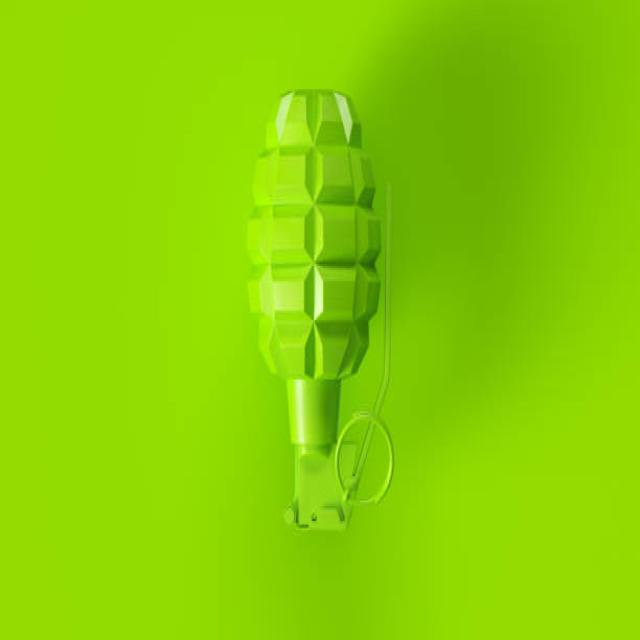grenade: (244, 81, 405, 545)
